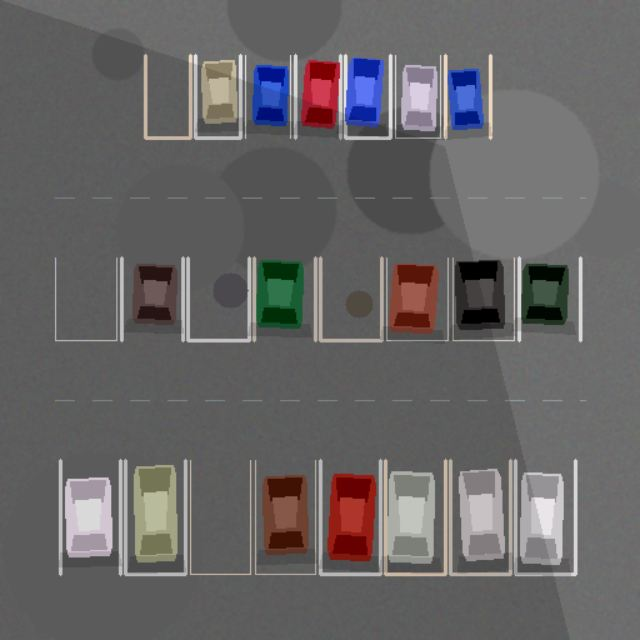space-empty: (190, 460, 250, 574), (187, 258, 249, 340), (55, 258, 116, 340), (320, 258, 381, 340), (145, 55, 190, 138)
space-occupied: (60, 460, 120, 574), (125, 460, 185, 574), (255, 460, 315, 574), (320, 460, 380, 574), (385, 460, 445, 574), (450, 460, 510, 574), (515, 460, 575, 574), (121, 258, 183, 340), (254, 258, 315, 340), (386, 258, 447, 340), (453, 258, 514, 340), (519, 258, 580, 340), (195, 55, 240, 138), (245, 55, 290, 138), (295, 55, 340, 138), (345, 55, 390, 138), (395, 55, 440, 138), (445, 55, 490, 138)
